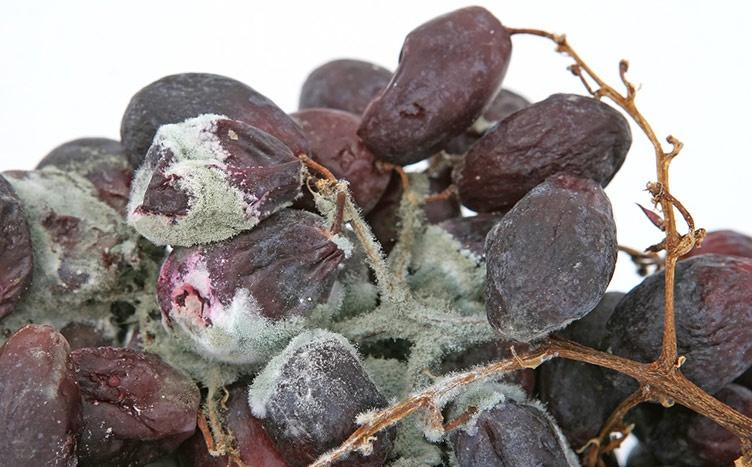Grape Rotten: (1, 6, 748, 466), (482, 172, 619, 343)
